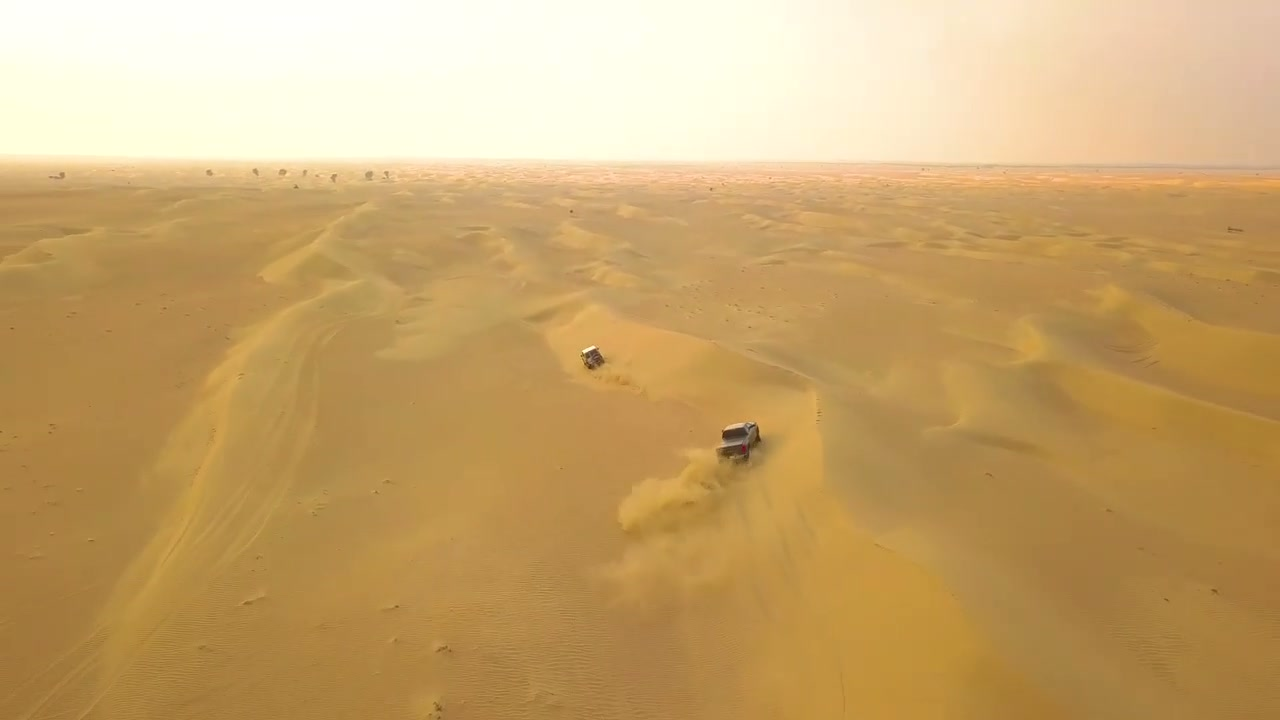vehicle_track: (13, 311, 335, 719)
